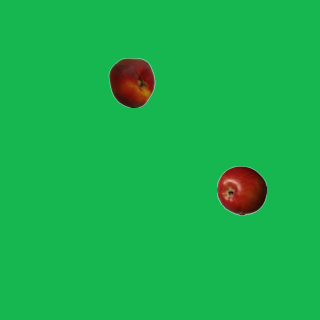Apple Braeburn: (216, 165, 266, 215)
Nectarine Flat: (106, 57, 156, 107)
